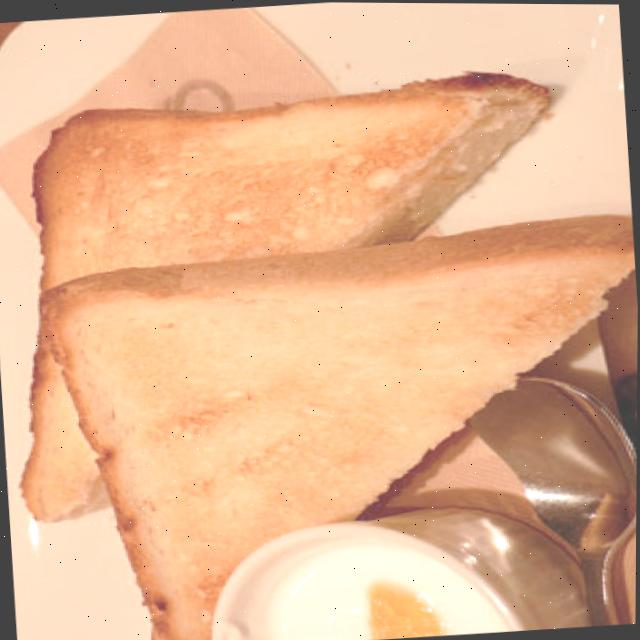面包点心: (12, 63, 640, 640)
